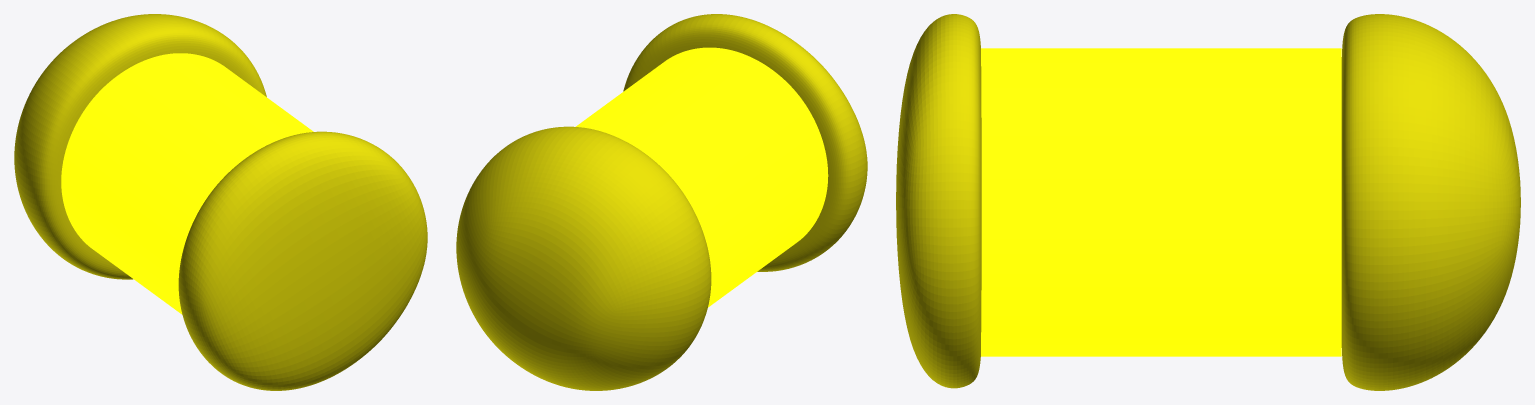
Rendered from OrbeAmarillo.fbx.
The picture shows the model from 3 angles, left to right: view 1: azimuth 30°, elevation 25°; view 2: azimuth 150°, elevation 25°; view 3: azimuth 270°, elevation 25°; orthographic projection. The views are drawn at different scales.
Parts seen in each view (by area): view 1: Cubo; view 2: Cubo; view 3: Cubo.
Boxes of the visible parts, bbox=[...] form: Cubo: bbox=[14, 14, 427, 390]; Cubo: bbox=[456, 14, 867, 390]; Cubo: bbox=[896, 14, 1520, 390].
Bounding box in the file's own units: 23.91 × 23.93 × 39.58.
